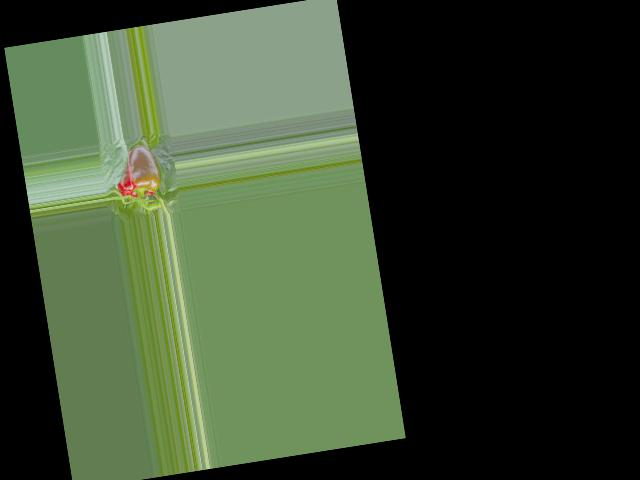bell_pepper: (109, 139, 169, 207)
